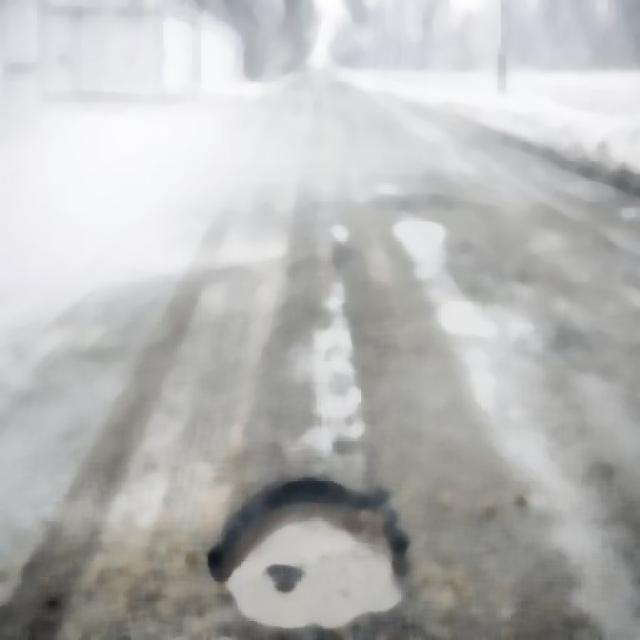Pothole: (208, 478, 409, 629)
